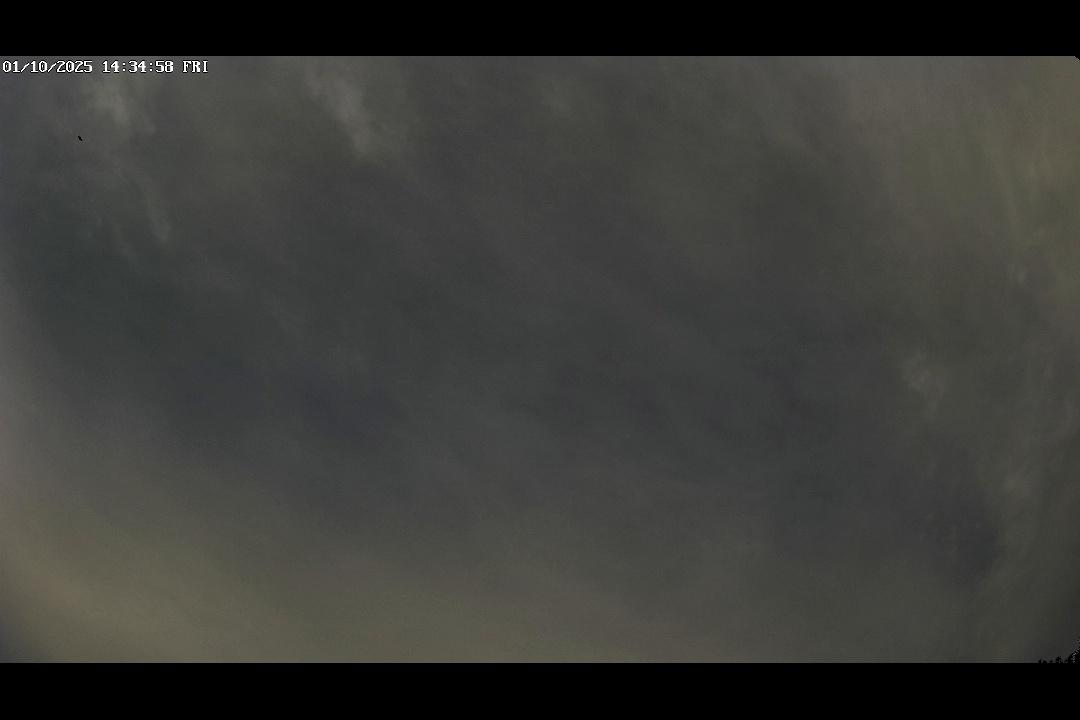WildLife: (67, 134, 91, 144)
